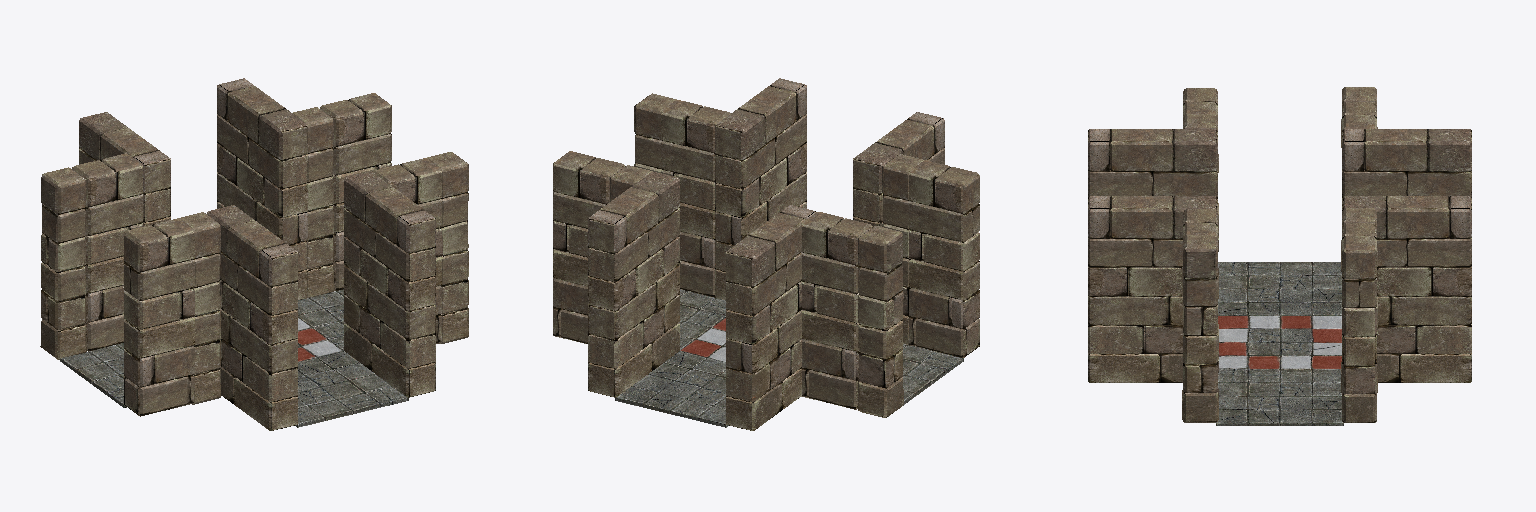
3 views of the same model, side by side, from view 1: azimuth 30°, elevation 25°; view 2: azimuth 150°, elevation 25°; view 3: azimuth 270°, elevation 25° (orthographic).
Visible parts, largest first — view 1: Box4139, Box4149, Box001ui004, Box3456, Box001ui, Box4145, Box001ui005, Box030, Box4152, Box4151, Box4148, Box3458 (+4 smaller); view 2: Box3456, Box3458, Box001ui004, Box4139, Box001ui, Box4145, Box001ui006, Box001ui005, Box4140, Box4149, Box4148, Box4152 (+4 smaller); view 3: Box4139, Box3456, Box4149, Box3458, Box026, Box001ui005, Box4152, Box024, Box00234, Box001ui, Box001ui006, Box001ui004 (+3 smaller).
Boxes of the visible parts, x1,y1,x2,y2 form: Box4139: [344, 171, 435, 397]; Box4149: [207, 205, 297, 430]; Box001ui004: [124, 218, 194, 416]; Box3456: [217, 78, 308, 299]; Box001ui: [72, 153, 142, 351]; Box4145: [40, 167, 86, 359]; Box001ui005: [320, 93, 391, 290]; Box030: [295, 351, 408, 427]; Box4152: [427, 152, 468, 343]; Box4151: [292, 107, 334, 298]; Box4148: [179, 212, 220, 404]; Box3458: [79, 112, 170, 226]; Box3456: [588, 172, 679, 397]; Box3458: [726, 205, 815, 430]; Box001ui004: [908, 160, 979, 357]; Box4139: [715, 78, 806, 299]; Box001ui: [801, 212, 872, 409]; Box4145: [858, 226, 903, 417]; Box001ui006: [660, 100, 730, 297]; Box001ui005: [553, 151, 624, 343]; Box4140: [615, 351, 728, 427]; Box4149: [853, 112, 944, 226]; Box4148: [882, 154, 923, 345]; Box4152: [634, 93, 676, 172]; Box4139: [1088, 196, 1217, 382]; Box3456: [1342, 196, 1471, 382]; Box4149: [1088, 129, 1217, 197]; Box3458: [1342, 129, 1471, 197]; Box026: [1216, 369, 1343, 425]; Box001ui005: [1342, 223, 1376, 422]; Box4152: [1182, 235, 1218, 422]; Box024: [1218, 262, 1341, 315]; Box00234: [1218, 316, 1341, 368]; Box001ui: [1342, 102, 1376, 130]; Box001ui006: [1183, 209, 1217, 236]; Box001ui004: [1183, 88, 1217, 116].
Size of the model in its own units: 6.12 by 3.08 by 6.04.
Materials: 3 (3 with a texture image).